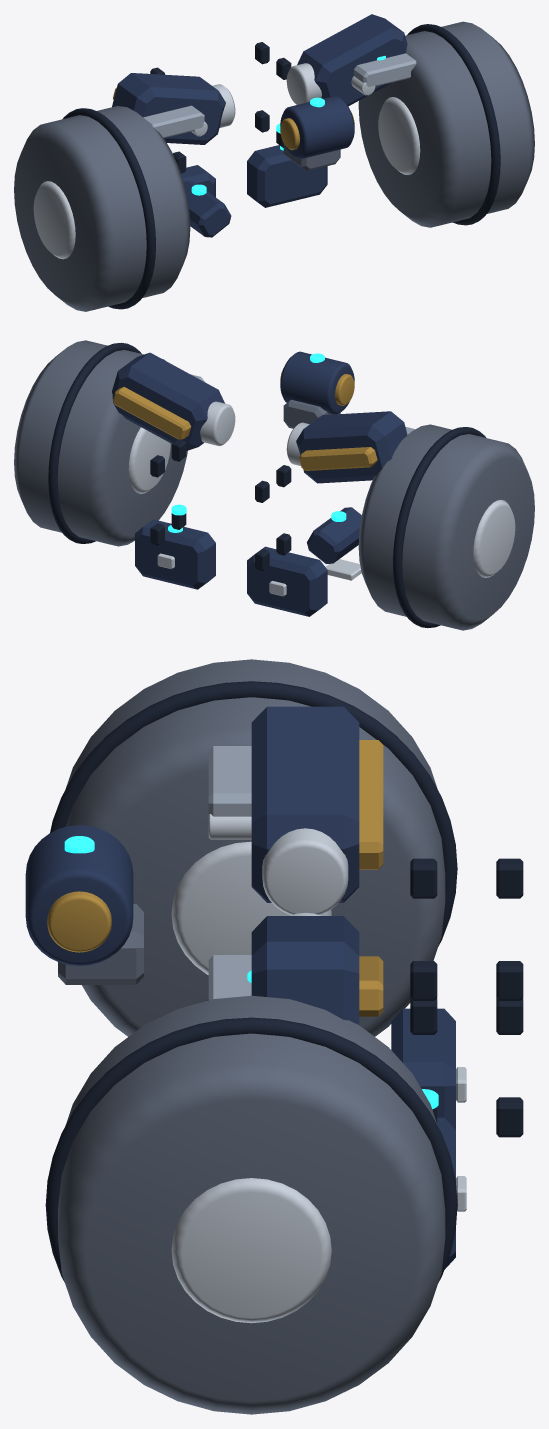
The model's file is tower_skywatch_rate_s8.glb.
The picture shows the model from 3 angles, top to bottom: view 1: azimuth 30°, elevation 25°; view 2: azimuth 150°, elevation 25°; view 3: azimuth 270°, elevation 25°; orthographic projection. The views are drawn at different scales.
Parts seen in each view (by area): view 1: skywatch_big_drum_r, skywatch_big_drum_l, skywatch_feed_cover_l, skywatch_feed_cover_r, skywatch_belt_box-0.24, skywatch_feed_motor, skywatch_big_drum_cap_r, skywatch_big_drum_cap_l, skywatch_big_drum_rib_l, skywatch_big_drum_rib_r, skywatch_eject_chute, skywatch_belt_guide_l (+6 smaller); view 2: skywatch_big_drum_r, skywatch_big_drum_l, skywatch_feed_cover_l, skywatch_feed_cover_r, skywatch_belt_box0.24, skywatch_belt_box-0.24, skywatch_feed_motor, skywatch_big_drum_cap_r, skywatch_big_drum_rib_r, skywatch_big_drum_rib_l, skywatch_eject_chute, skywatch_big_drum_cap_l (+7 smaller); view 3: skywatch_big_drum_l, skywatch_big_drum_r, skywatch_big_drum_cap_l, skywatch_feed_cover_r, skywatch_big_drum_rib_l, skywatch_feed_cover_l, skywatch_feed_motor, skywatch_big_drum_rib_r, skywatch_big_drum_cap_r, skywatch_feed_sprocket_r, skywatch_belt_box0.24, skywatch_feed_belt_r (+13 smaller).
Boxes of the visible parts, left/top/right/bottom form: skywatch_big_drum_r: left=14, top=106, right=190, bottom=311; skywatch_big_drum_l: left=358, top=21, right=534, bottom=227; skywatch_feed_cover_l: left=297, top=14, right=407, bottom=106; skywatch_feed_cover_r: left=112, top=73, right=225, bottom=144; skywatch_belt_box-0.24: left=247, top=145, right=327, bottom=207; skywatch_feed_motor: left=280, top=96, right=354, bottom=159; skywatch_big_drum_cap_r: left=33, top=181, right=75, bottom=259; skywatch_big_drum_cap_l: left=378, top=97, right=420, bottom=174; skywatch_big_drum_rib_l: left=407, top=24, right=500, bottom=225; skywatch_big_drum_rib_r: left=62, top=108, right=155, bottom=309; skywatch_eject_chute: left=184, top=180, right=231, bottom=237; skywatch_belt_guide_l: left=354, top=53, right=416, bottom=86; skywatch_big_drum_r: left=358, top=424, right=534, bottom=630; skywatch_big_drum_l: left=14, top=340, right=187, bottom=546; skywatch_feed_cover_l: left=112, top=352, right=224, bottom=450; skywatch_feed_cover_r: left=296, top=411, right=407, bottom=483; skywatch_belt_box0.24: left=247, top=546, right=327, bottom=616; skywatch_belt_box-0.24: left=135, top=519, right=215, bottom=589; skywatch_feed_motor: left=280, top=351, right=354, bottom=414; skywatch_big_drum_cap_r: left=473, top=500, right=515, bottom=577; skywatch_big_drum_rib_r: left=393, top=427, right=486, bottom=628; skywatch_big_drum_rib_l: left=48, top=342, right=141, bottom=543; skywatch_eject_chute: left=307, top=507, right=361, bottom=563; skywatch_big_drum_cap_l: left=128, top=427, right=170, bottom=493; skywatch_big_drum_l: left=58, top=995, right=445, bottom=1414; skywatch_big_drum_r: left=65, top=659, right=445, bottom=1036; skywatch_big_drum_cap_l: left=171, top=1178, right=331, bottom=1323; skywatch_feed_cover_r: left=251, top=706, right=359, bottom=902; skywatch_big_drum_rib_l: left=45, top=1017, right=457, bottom=1282; skywatch_feed_cover_l: left=251, top=916, right=359, bottom=1024; skywatch_feed_motor: left=25, top=825, right=133, bottom=966; skywatch_big_drum_rib_r: left=50, top=681, right=457, bottom=946; skywatch_big_drum_cap_r: left=171, top=841, right=331, bottom=974; skywatch_feed_sprocket_r: left=262, top=828, right=348, bottom=914; skywatch_belt_box0.24: left=391, top=1008, right=455, bottom=1129; skywatch_feed_belt_r: left=359, top=740, right=383, bottom=869.
Bounding box in the file's own units: 1.92 × 0.8198 × 0.925.
